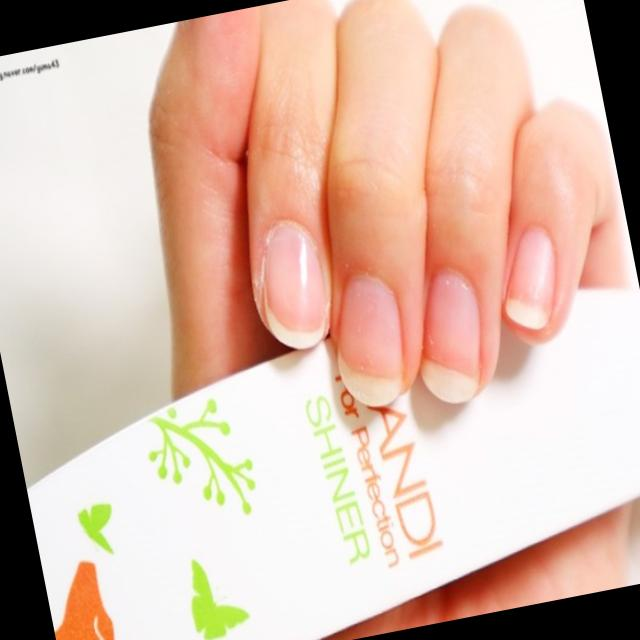Nail: (338, 274, 403, 408), (263, 220, 328, 350), (421, 265, 481, 403), (505, 227, 557, 332)
